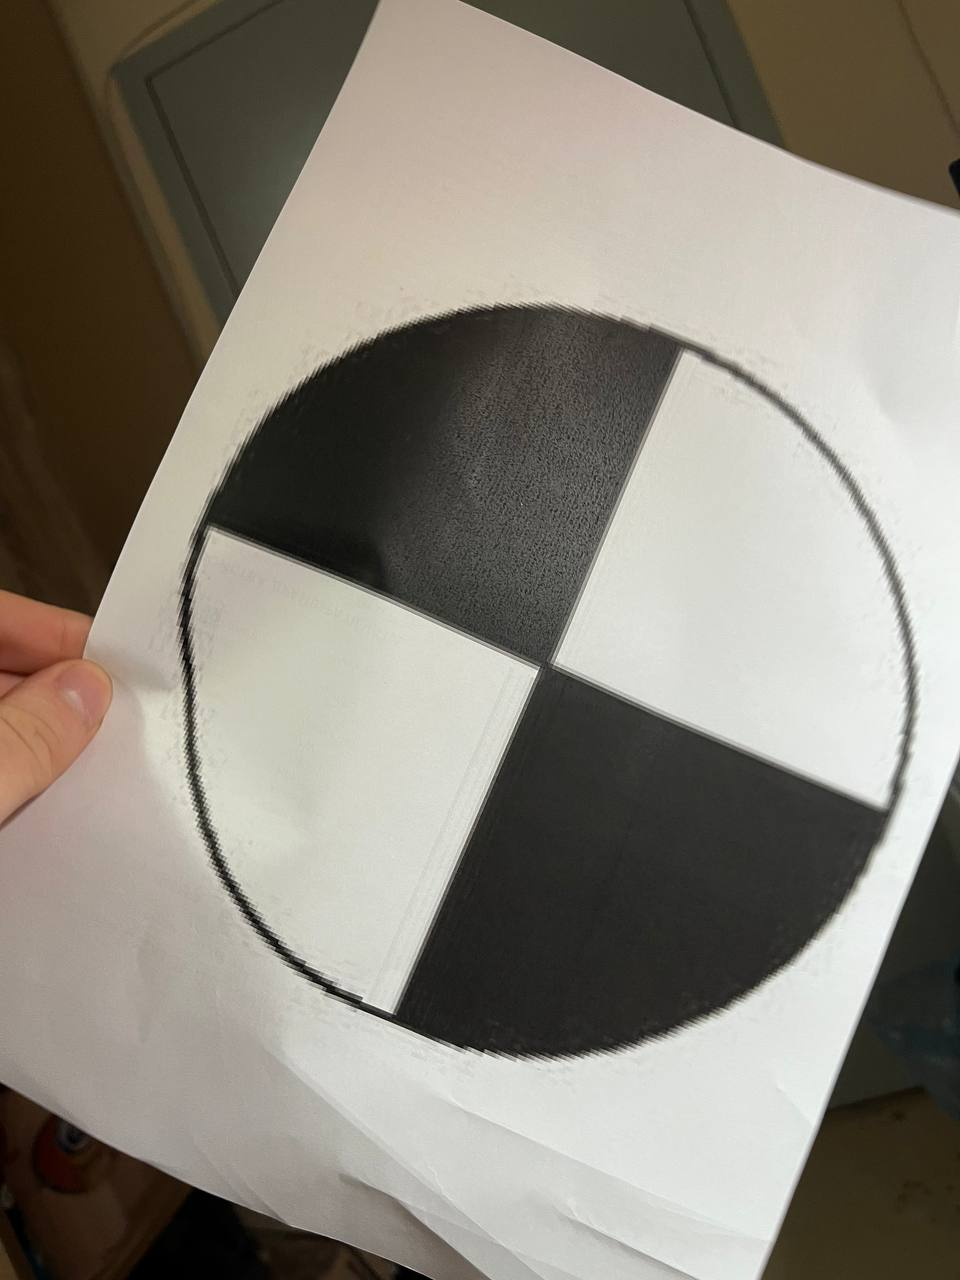pattern: (181, 302, 919, 1049)
